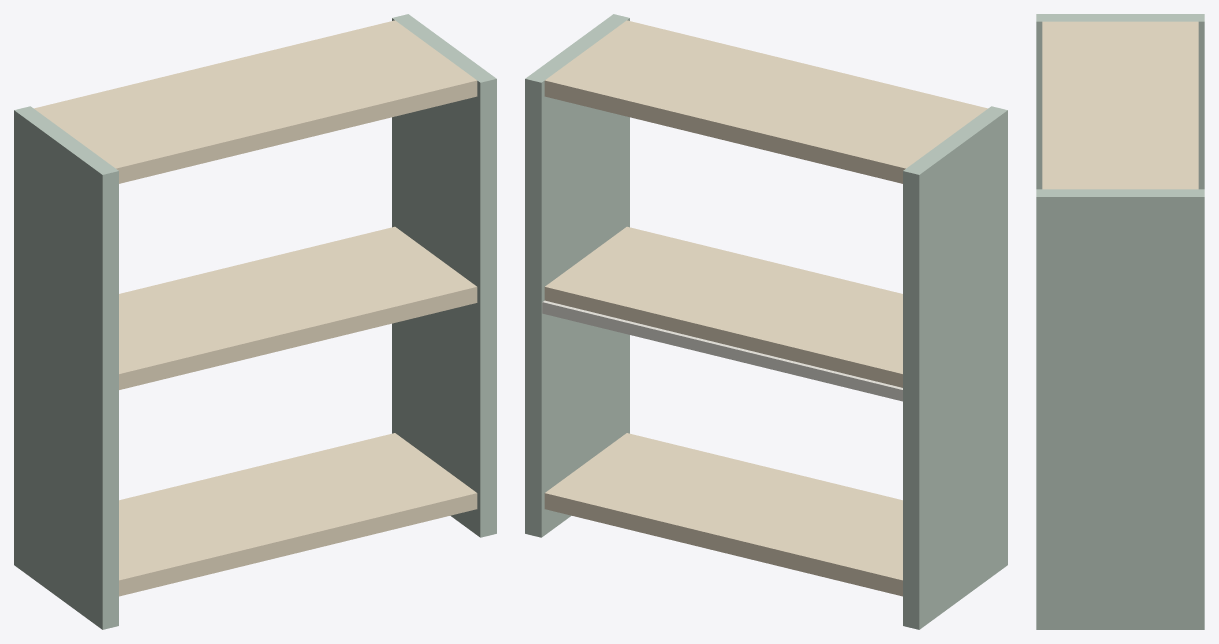
File: shelf_etagere_3tier.glb
The picture shows the model from 3 angles, left to right: view 1: azimuth 30°, elevation 25°; view 2: azimuth 150°, elevation 25°; view 3: azimuth 270°, elevation 25°; orthographic projection. The views are drawn at different scales.
Parts seen in each view (by area): view 1: p0, p1, p4, p2, p3; view 2: p0, p1, p4, p2, p3, p5; view 3: p1, p4, p0.
Boxes of the visible parts, x1,y1,x2,y2 form: p0: [14, 106, 118, 629]; p1: [392, 14, 496, 537]; p4: [34, 20, 477, 183]; p2: [119, 433, 477, 596]; p3: [119, 226, 477, 389]; p0: [903, 106, 1007, 629]; p1: [525, 14, 629, 537]; p4: [544, 20, 987, 183]; p2: [544, 433, 902, 596]; p3: [544, 226, 902, 387]; p5: [542, 300, 902, 401]; p1: [1036, 189, 1204, 629]; p4: [1042, 21, 1198, 189]; p0: [1036, 14, 1204, 189].
Size of the model in its own units: 0.72 by 0.794 by 0.28.
